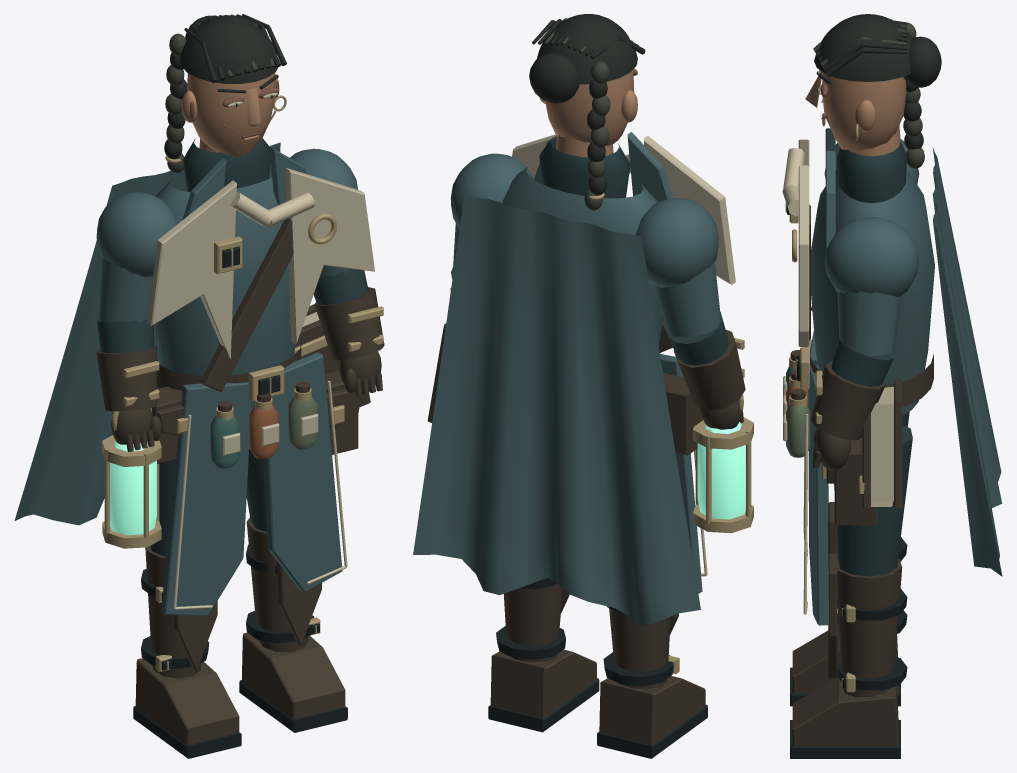
Rendered from healer.glb.
3 renders of one model, left to right at view 1: azimuth 30°, elevation 25°; view 2: azimuth 150°, elevation 25°; view 3: azimuth 270°, elevation 25°, orthographic. The views are drawn at different scales.
Visible parts, largest first — view 1: body, ivory-apothecary-shawl, legR, legL, armL, head, armR, ward-lantern, apothecary-vial (×3), leather-pouch (×2), hand (×2), braided-hair (+1 smaller); view 2: body, armL, legR, legL, head, ward-lantern, ivory-apothecary-shawl, armR, braided-hair, leather-pouch, hand; view 3: body, legR, armR, head, archive-volume, ivory-apothecary-shawl, legL, leather-pouch, braided-hair, apothecary-vial, hand.
Part boxes in pixels (x1=…): body: x1=14, y1=138, x2=347, y2=616; ivory-apothecary-shawl: x1=147, y1=167, x2=374, y2=359; legR: x1=239, y1=404, x2=347, y2=732; legL: x1=133, y1=459, x2=241, y2=758; armL: x1=96, y1=192, x2=176, y2=411; head: x1=179, y1=14, x2=286, y2=156; armR: x1=290, y1=148, x2=384, y2=360; ward-lantern: x1=102, y1=408, x2=161, y2=548; apothecary-vial (×3): x1=210, y1=381, x2=318, y2=468; leather-pouch (×2): x1=151, y1=371, x2=361, y2=463; hand (×2): x1=111, y1=351, x2=382, y2=451; braided-hair: x1=164, y1=33, x2=187, y2=173; body: x1=413, y1=132, x2=707, y2=625; armL: x1=635, y1=198, x2=745, y2=410; legR: x1=488, y1=578, x2=599, y2=732; legL: x1=597, y1=606, x2=707, y2=758; head: x1=529, y1=14, x2=645, y2=145; ward-lantern: x1=693, y1=394, x2=753, y2=533; ivory-apothecary-shawl: x1=512, y1=134, x2=735, y2=284; armR: x1=450, y1=153, x2=533, y2=290; braided-hair: x1=584, y1=61, x2=610, y2=210; leather-pouch: x1=663, y1=373, x2=703, y2=455; hand: x1=700, y1=401, x2=743, y2=429; body: x1=785, y1=125, x2=1002, y2=625; legR: x1=790, y1=425, x2=912, y2=758; armR: x1=811, y1=216, x2=919, y2=440; head: x1=805, y1=14, x2=941, y2=152; archive-volume: x1=859, y1=378, x2=902, y2=508; ivory-apothecary-shawl: x1=782, y1=139, x2=809, y2=346; legL: x1=790, y1=411, x2=909, y2=706; leather-pouch: x1=821, y1=437, x2=877, y2=525; braided-hair: x1=903, y1=22, x2=924, y2=168; apothecary-vial: x1=783, y1=388, x2=810, y2=457; hand: x1=812, y1=428, x2=851, y2=470.
Bounding box in the file's own units: 0.9583 × 2.09 × 0.5954.
